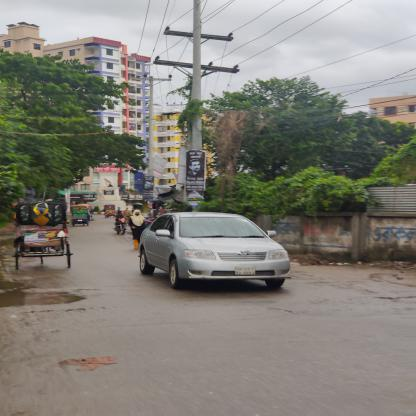license_plate: (234, 266, 256, 277)
